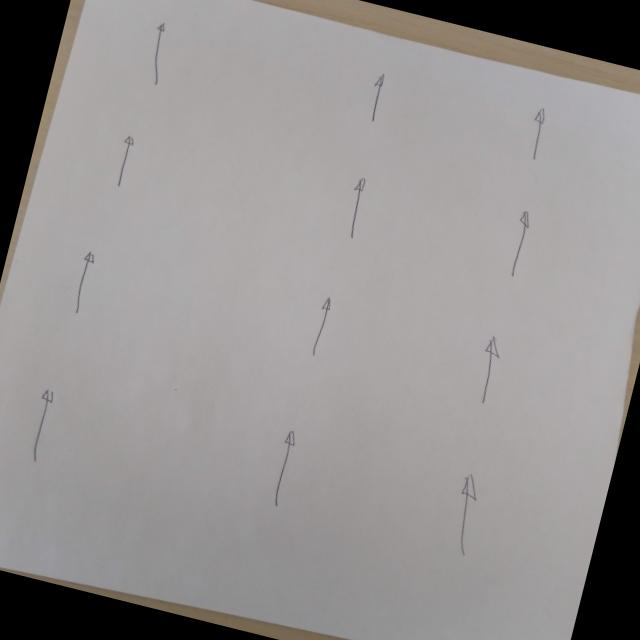arrow_line_up: (54, 234, 130, 326), (453, 332, 517, 417), (494, 205, 552, 295), (441, 470, 499, 560), (259, 421, 314, 514), (19, 387, 73, 473), (329, 170, 385, 248), (299, 290, 343, 366), (518, 105, 562, 167), (103, 128, 144, 194), (354, 69, 394, 129), (144, 20, 178, 88)
